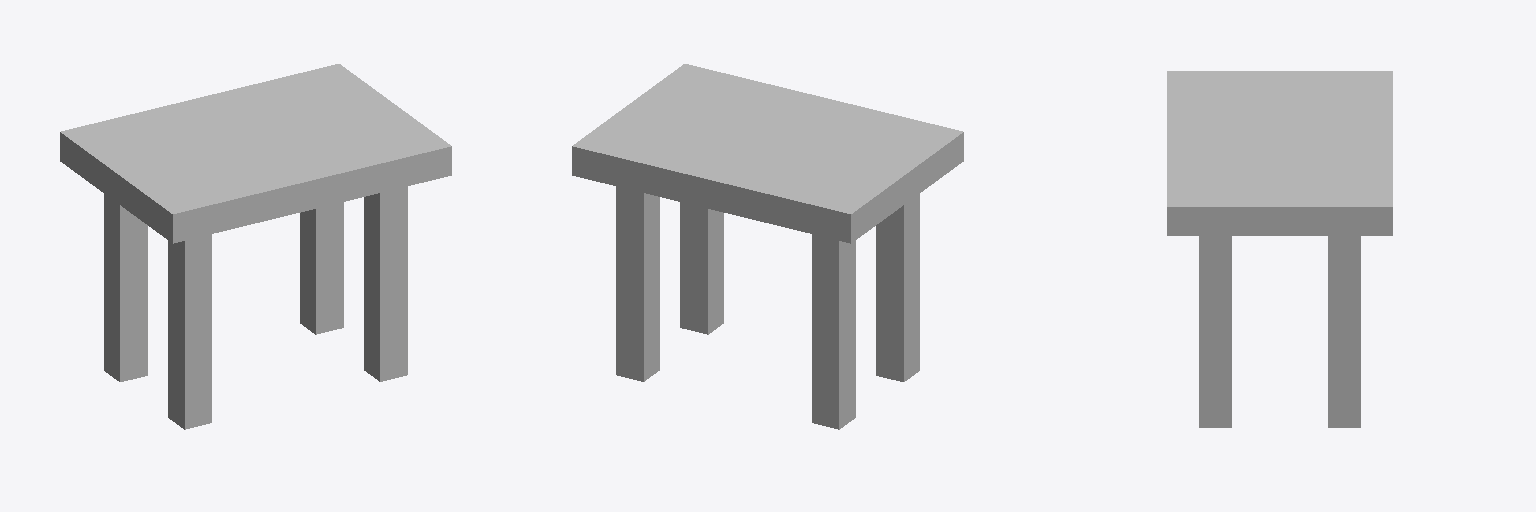
Rendered from small table.obj.
3 renders of one model, left to right at view 1: azimuth 30°, elevation 25°; view 2: azimuth 150°, elevation 25°; view 3: azimuth 270°, elevation 25°, orthographic.
Bounding box in the file's own units: 10 × 8 × 7.